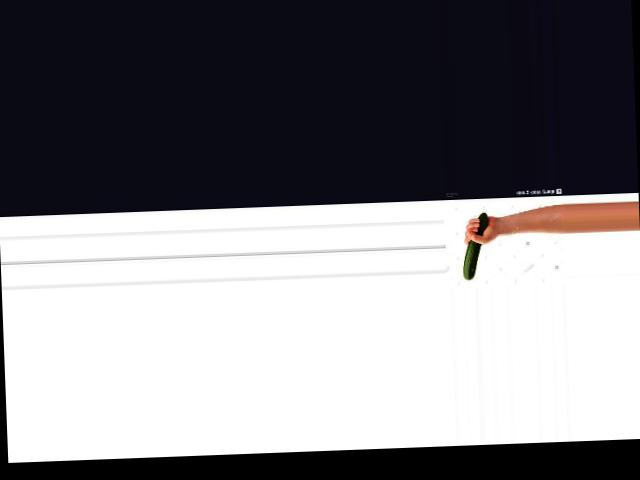cucumber: (460, 212, 488, 279)
